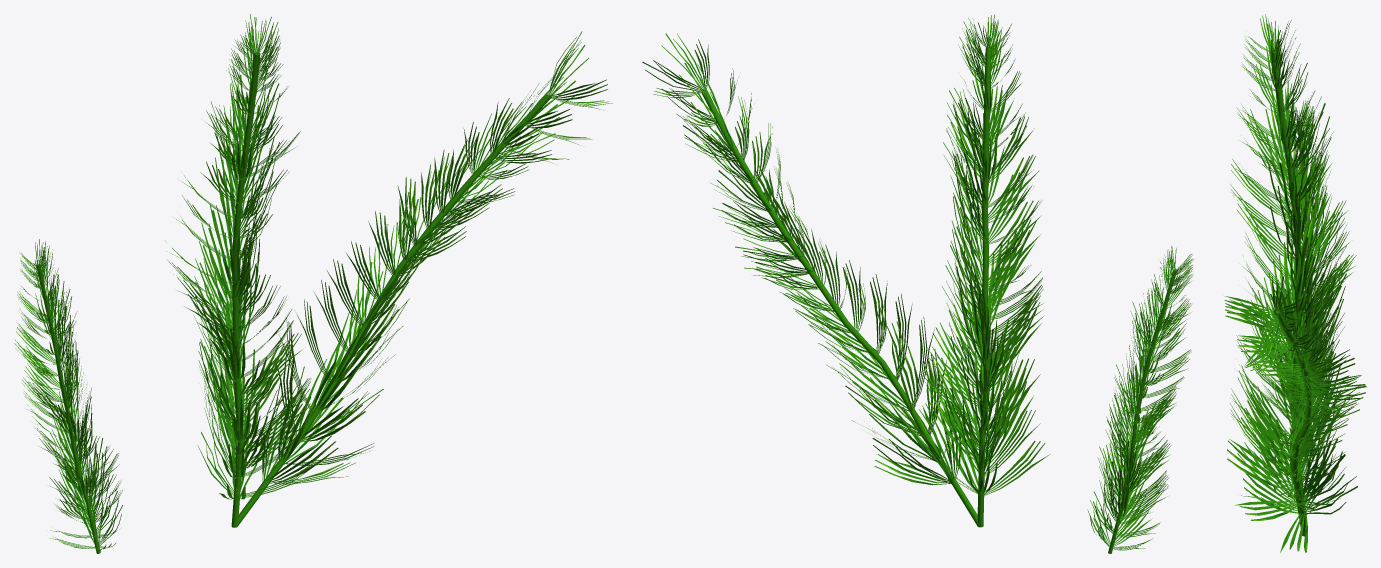
File: SSZW_jinyuzao.fbx
3 views of the same model, side by side, from view 1: azimuth 30°, elevation 25°; view 2: azimuth 150°, elevation 25°; view 3: azimuth 270°, elevation 25° (orthographic). The views are drawn at different scales.
Parts seen in each view (by area): view 1: SSZW_jinyuzao_ye2, SSZW_jinyuzao_ye1, SSZW_jinyuzao_gan1, SSZW_jinyuzao_gan2; view 2: SSZW_jinyuzao_ye2, SSZW_jinyuzao_ye1, SSZW_jinyuzao_gan1, SSZW_jinyuzao_gan2; view 3: SSZW_jinyuzao_ye2, SSZW_jinyuzao_ye1, SSZW_jinyuzao_gan1, SSZW_jinyuzao_gan2.
Part boxes in pixels (x1,y1,x2,y2): SSZW_jinyuzao_ye2: (165,14,612,499); SSZW_jinyuzao_ye1: (14,239,122,551); SSZW_jinyuzao_gan1: (231,52,551,527); SSZW_jinyuzao_gan2: (36,265,100,553); SSZW_jinyuzao_ye2: (642,14,1049,495); SSZW_jinyuzao_ye1: (1087,246,1193,550); SSZW_jinyuzao_gan1: (701,47,991,527); SSZW_jinyuzao_gan2: (1108,269,1177,553); SSZW_jinyuzao_ye2: (1224,14,1366,552); SSZW_jinyuzao_ye1: (1254,100,1356,454); SSZW_jinyuzao_gan1: (1270,50,1312,536); SSZW_jinyuzao_gan2: (1297,122,1312,458).
Bounding box in the file's own units: 44.36 × 38.09 × 9.51.
Materials: 2 (2 with a texture image).
